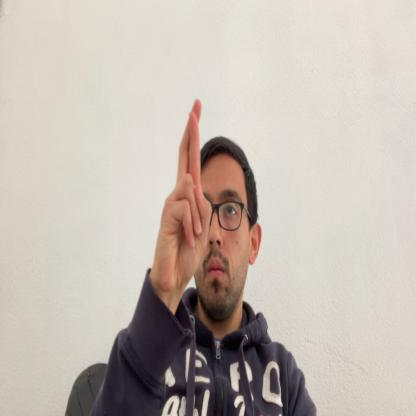R: (152, 98, 212, 316)
